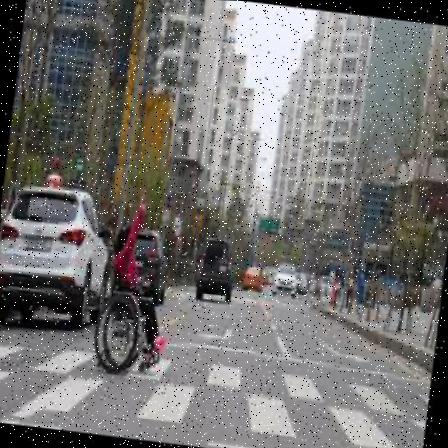wheel: (88, 191, 180, 376)
